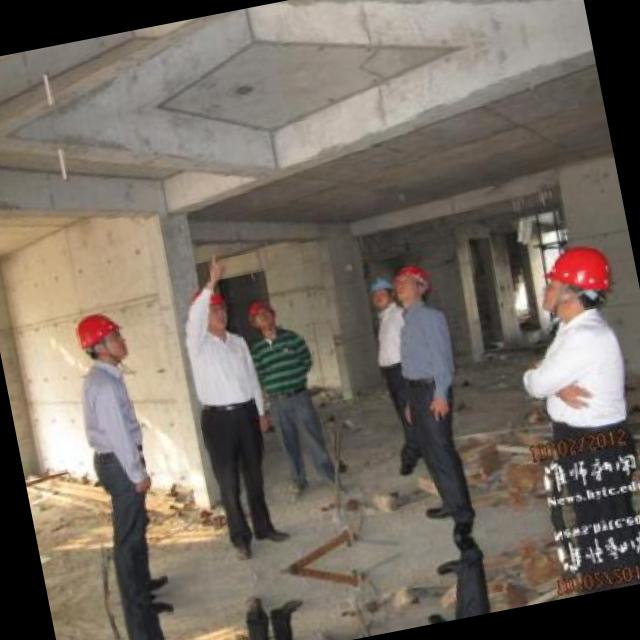helmet: (530, 239, 626, 329), (68, 304, 134, 374), (190, 282, 238, 340), (392, 259, 434, 307), (244, 291, 286, 333), (361, 272, 397, 314)
